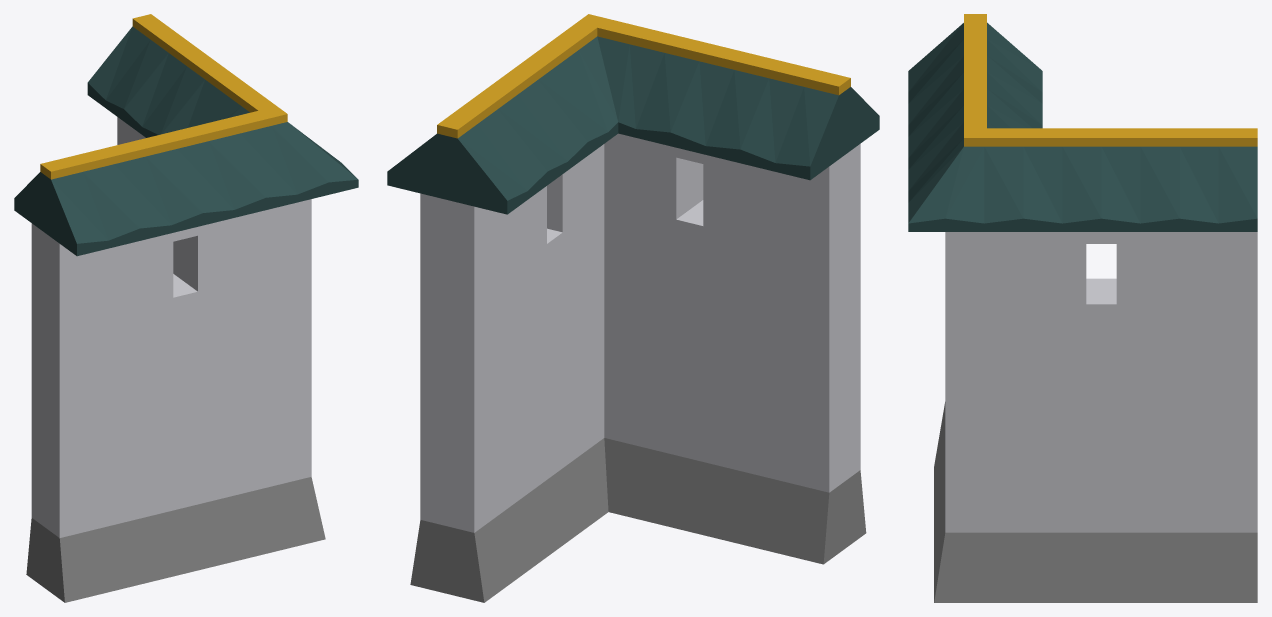
File: Asian_Prop_Building_Fence_Wall_Simple_Corner_Embrasure_04.FBX
3 renders of one model, left to right at view 1: azimuth 30°, elevation 25°; view 2: azimuth 150°, elevation 25°; view 3: azimuth 270°, elevation 25°, orthographic. The views are drawn at different scales.
Parts seen in each view (by area): view 1: Asian_Prop_Building_Fence_Wall_Simple_Corner_Embrasure_04; view 2: Asian_Prop_Building_Fence_Wall_Simple_Corner_Embrasure_04; view 3: Asian_Prop_Building_Fence_Wall_Simple_Corner_Embrasure_04.
Boxes of the visible parts, x1,y1,x2,y2 form: Asian_Prop_Building_Fence_Wall_Simple_Corner_Embrasure_04: (14,14,358,602); Asian_Prop_Building_Fence_Wall_Simple_Corner_Embrasure_04: (387,14,879,602); Asian_Prop_Building_Fence_Wall_Simple_Corner_Embrasure_04: (908,14,1257,602).
Size of the model in its own units: 2890 by 4128 by 2890.
